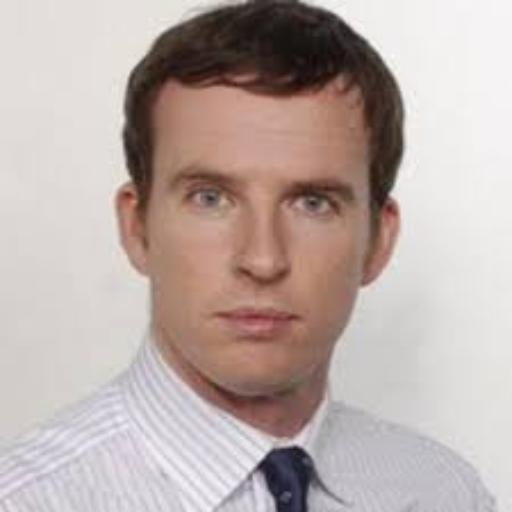left_eye: (286, 194, 344, 220)
left_lip_corner: (289, 309, 308, 329)
right_eye: (182, 188, 240, 216)
right_lip_corner: (208, 308, 232, 328)
